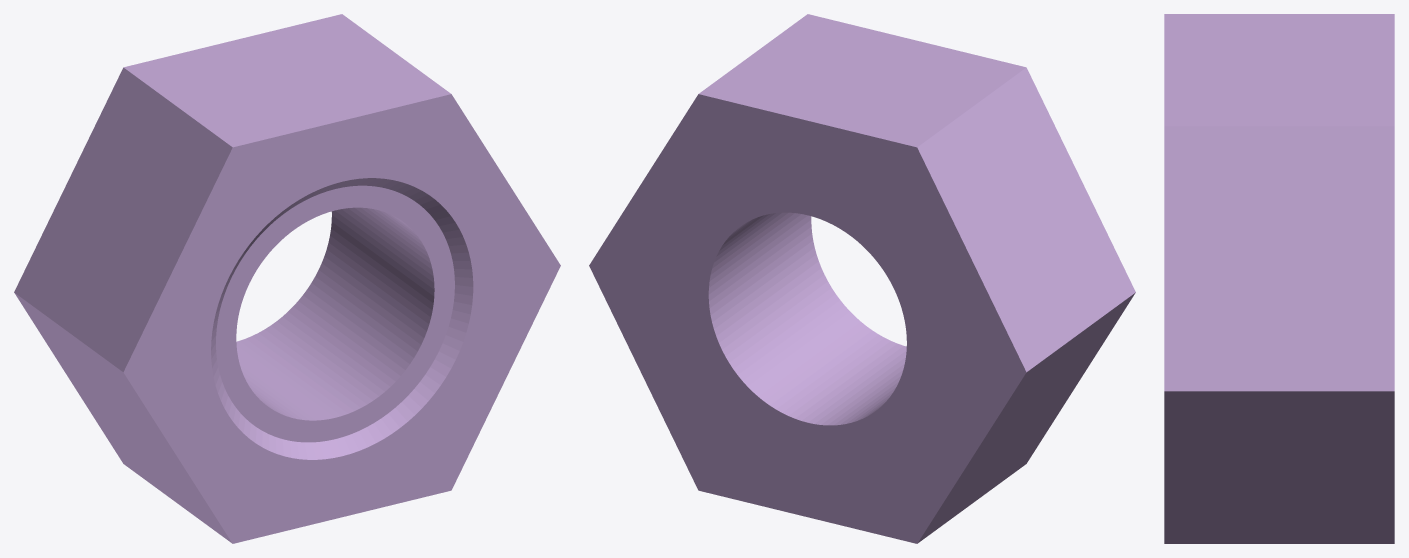
The model's file is countersink_demo.glb.
The picture shows the model from 3 angles, left to right: view 1: azimuth 30°, elevation 25°; view 2: azimuth 150°, elevation 25°; view 3: azimuth 270°, elevation 25°; orthographic projection. The views are drawn at different scales.
Parts seen in each view (by area): view 1: countersunk_nut; view 2: countersunk_nut; view 3: countersunk_nut.
Boxes of the visible parts, x1,y1,x2,y2 form: countersunk_nut: (14,14,560,543); countersunk_nut: (589,14,1135,543); countersunk_nut: (1164,14,1394,543).
Bounding box in the file's own units: 15.01 × 13 × 6.5.
